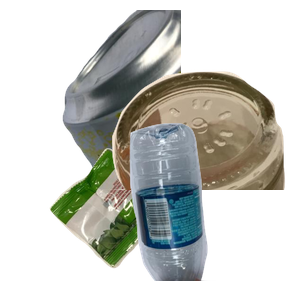glass: (89, 69, 300, 249)
metal: (60, 10, 300, 190)
plastic: (127, 120, 300, 300)
trash: (47, 146, 220, 300)
